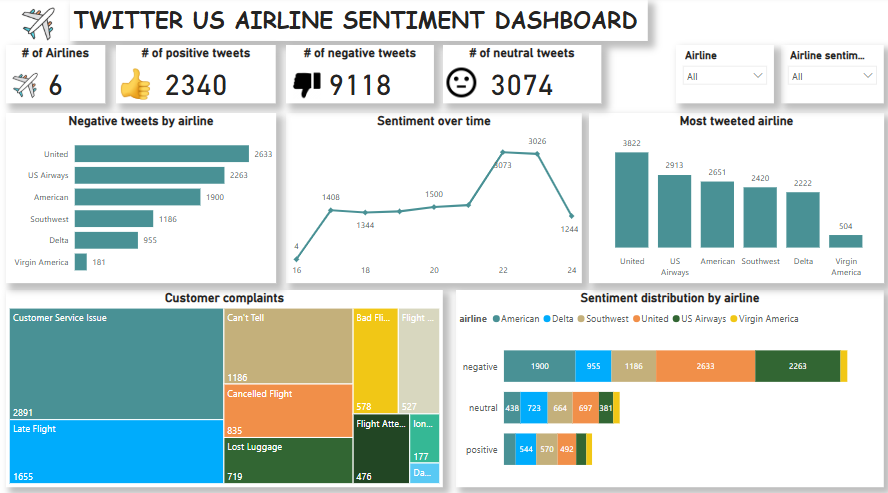

The page's visual inventory and layout, read from the dashboard file:
{"tool":"powerbi","page":{"name":"Dashboard","canvas":[1280,720],"ordinal":0},"visuals":[{"type":"lineChart","title":"Sentiment over time","fields":{"Y":["CountNonNull(Tweets.airline_sentiment)"],"Category":["Tweets.tweet_created.Variation.Date Hierarchy.Day"]},"box":[413.3,167,426.2,244.8],"z":0},{"type":"barChart","title":"Sentiment distribution by airline","fields":{"Category":["Tweets.airline_sentiment"],"Y":["CountNonNull(Tweets.airline)"],"Series":["Tweets.airline"]},"box":[658.1,421.9,616.3,283.7],"z":1000},{"type":"columnChart","title":"Most tweeted airline","fields":{"Category":["Tweets.airline"],"Y":["CountNonNull(Tweets.text)"]},"box":[849.6,167,424.8,244.8],"z":2000},{"type":"treemap","title":"Customer complaints","fields":{"Group":["Tweets.negativereason"],"Values":["CountNonNull(Tweets.airline_sentiment)"]},"box":[10.1,421.9,629.3,283.7],"z":3000},{"type":"textbox","box":[102.2,4.3,832.3,59],"z":4000},{"type":"card","title":"# of Airlines","fields":{"Values":["Count(Tweets.airline)"]},"box":[10.1,69.1,142.6,83.5],"z":5000},{"type":"card","title":"# of positive tweets","fields":{"Values":["Tweets.positive"]},"box":[168.5,69.1,230.4,83.5],"z":6000},{"type":"card","title":"# of negative tweets","fields":{"Values":["Tweets.Negative tweets"]},"box":[413.3,69.1,213.1,83.5],"z":7000},{"type":"card","title":"# of neutral tweets","fields":{"Values":["Tweets.Neutral"]},"box":[639.4,69.1,227.5,83.5],"z":8000},{"type":"slicer","fields":{"Values":["Tweets.airline_sentiment"]},"box":[1126.1,69.1,148.3,83.5],"z":9000},{"type":"slicer","fields":{"Values":["Tweets.airline"]},"box":[974.9,69.1,141.1,83.5],"z":10000},{"type":"image","box":[10.1,4.3,92.2,69.1],"z":11000},{"type":"image","box":[10.1,97.9,54.7,59],"z":12000},{"type":"image","box":[168.5,97.9,56.2,54.7],"z":13000},{"type":"image","box":[413.3,102.2,59,50.4],"z":14000},{"type":"image","box":[639.4,93.6,53.3,59],"z":15000},{"type":"barChart","fields":{"Category":["Tweets.airline"],"Y":["Tweets.Negative tweets"]},"box":[10.1,167,388.8,244.8],"z":16000}]}

Visuals, with their boxes in screenshot pixels (x1, y1, x2, y2), scaled from the page's 1280x720 canvas onto the 888x493 screenshot:
"Sentiment over time" lineChart: 287/114/582/282
"Sentiment distribution by airline" barChart: 457/289/884/483
"Most tweeted airline" columnChart: 589/114/884/282
"Customer complaints" treemap: 7/289/444/483
textbox: 71/3/648/43
"# of Airlines" card: 7/47/106/104
"# of positive tweets" card: 117/47/277/104
"# of negative tweets" card: 287/47/435/104
"# of neutral tweets" card: 444/47/601/104
slicer - Tweets.airline_sentiment: 781/47/884/104
slicer - Tweets.airline: 676/47/774/104
image: 7/3/71/50
image: 7/67/45/107
image: 117/67/156/104
image: 287/70/328/104
image: 444/64/481/104
barChart - Tweets.airline x Tweets.Negative tweets: 7/114/277/282
